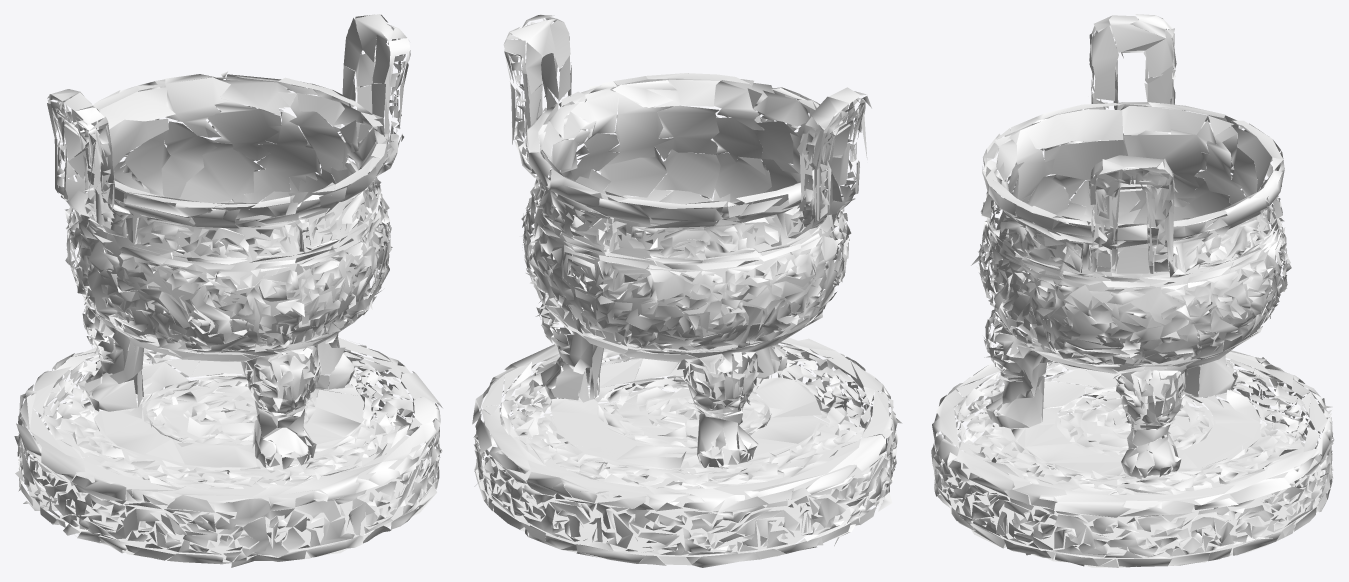
Rendered from incense_ding_lod2.glb.
The picture shows the model from 3 angles, left to right: view 1: azimuth 30°, elevation 25°; view 2: azimuth 150°, elevation 25°; view 3: azimuth 270°, elevation 25°; orthographic projection. The views are drawn at different scales.
Visible parts, largest first — view 1: Mesh_0; view 2: Mesh_0; view 3: Mesh_0.
Boxes of the visible parts, x1,y1,x2,y2 form: Mesh_0: [14, 14, 442, 567]; Mesh_0: [472, 14, 902, 567]; Mesh_0: [931, 14, 1334, 567].
Bounding box in the file's own units: 2.39 × 2.63 × 2.39.
Materials: 1 (1 with a texture image).
